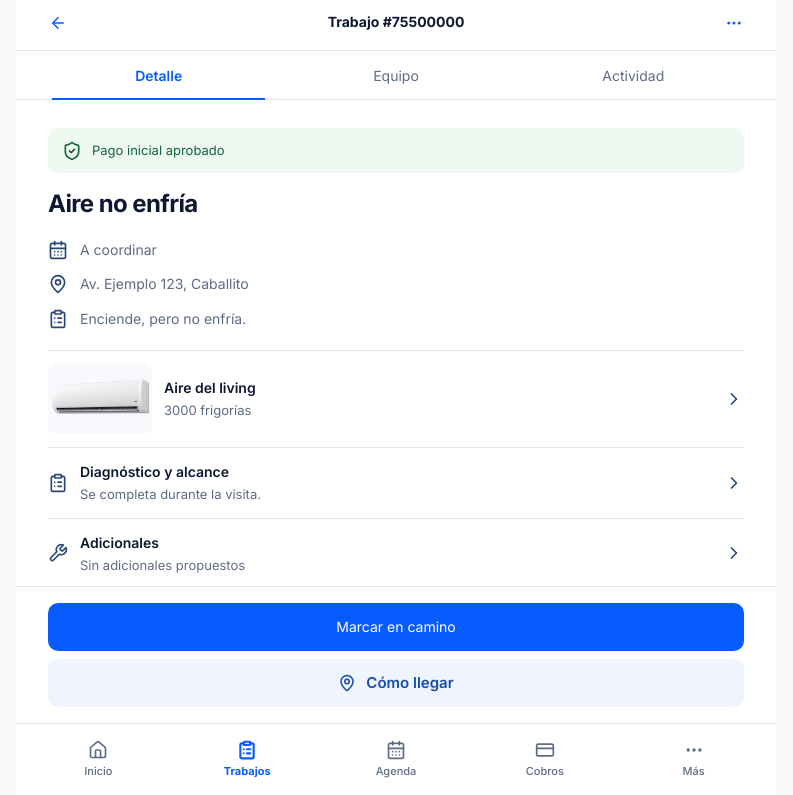
approved compact professional job workspace › sends the canonical visit command and reloads confirmed state
This screenshot has width=793, height=795.
Expected: the heading "Aire no enfría" is shown, [48, 189, 198, 218]
Click the button "Marcar en camino": [396, 626] box [48, 602, 744, 650]
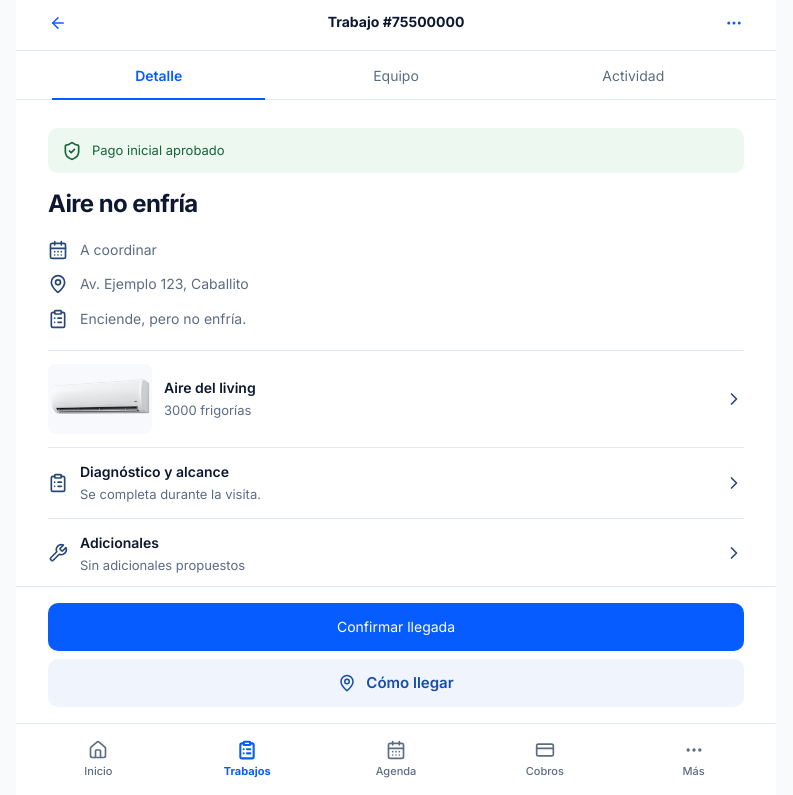
Expected: the button "Confirmar llegada" is shown, [48, 602, 744, 650]
